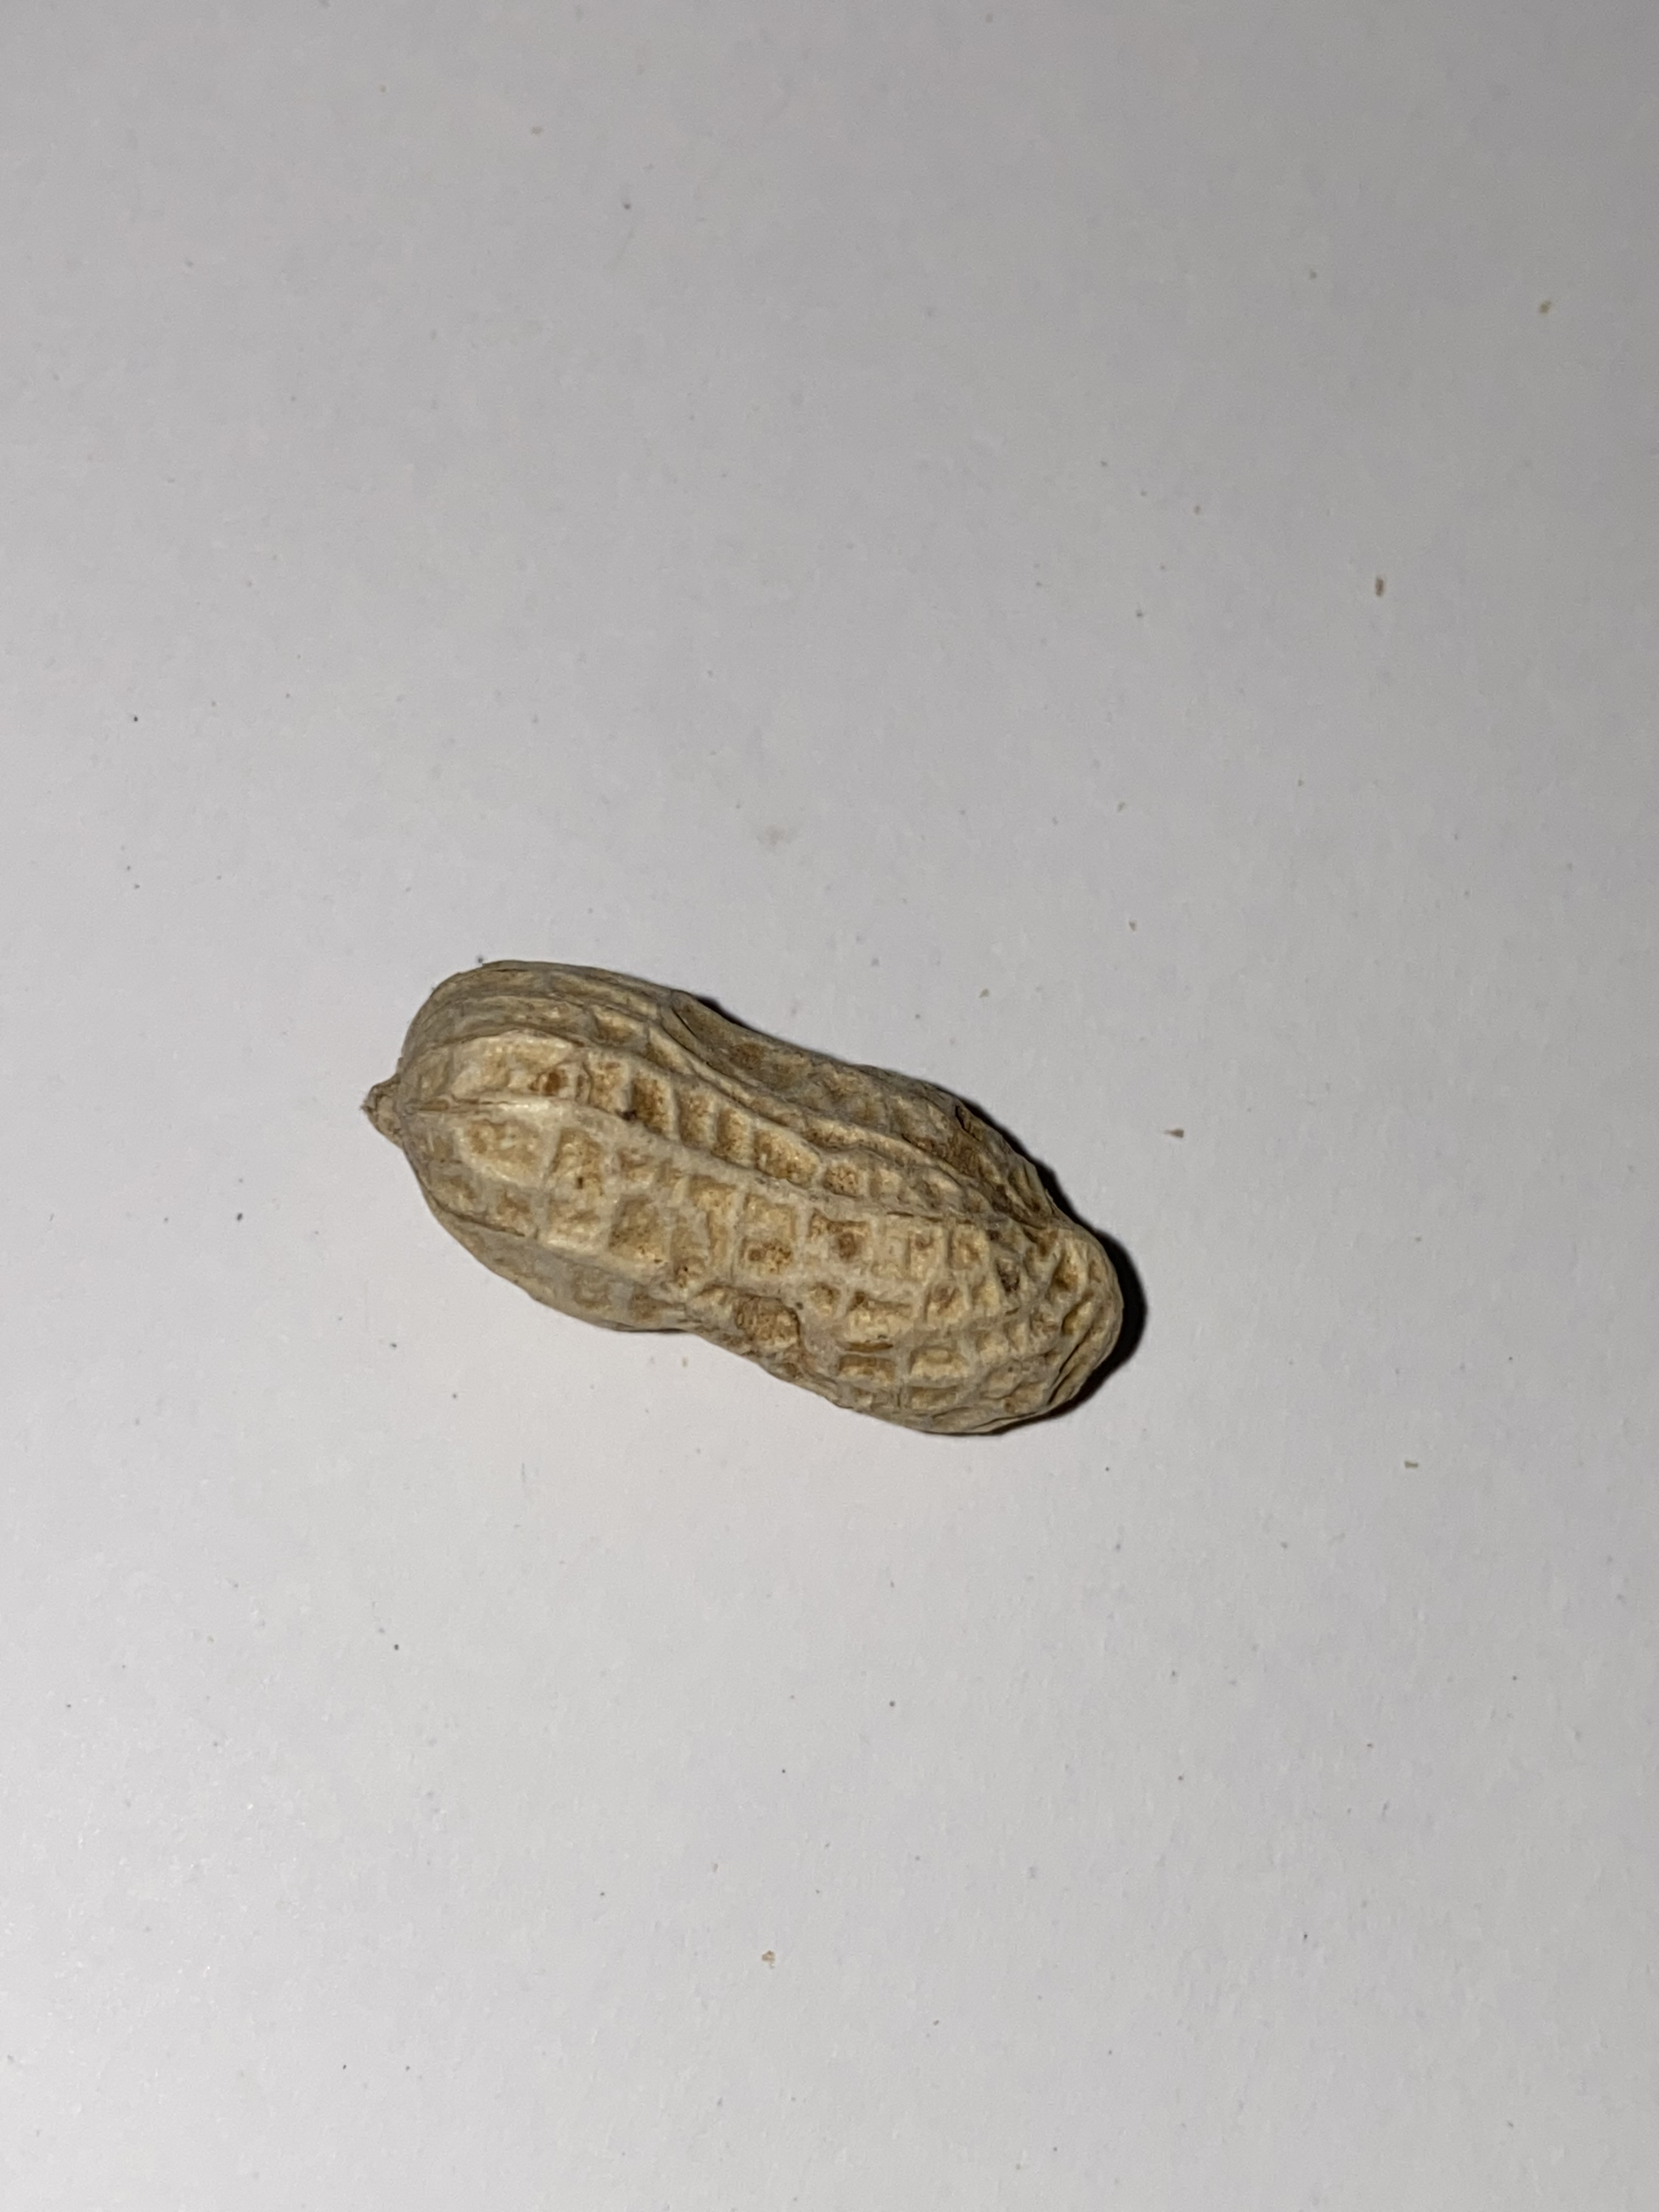kacang2: (322, 883, 1187, 1451)
